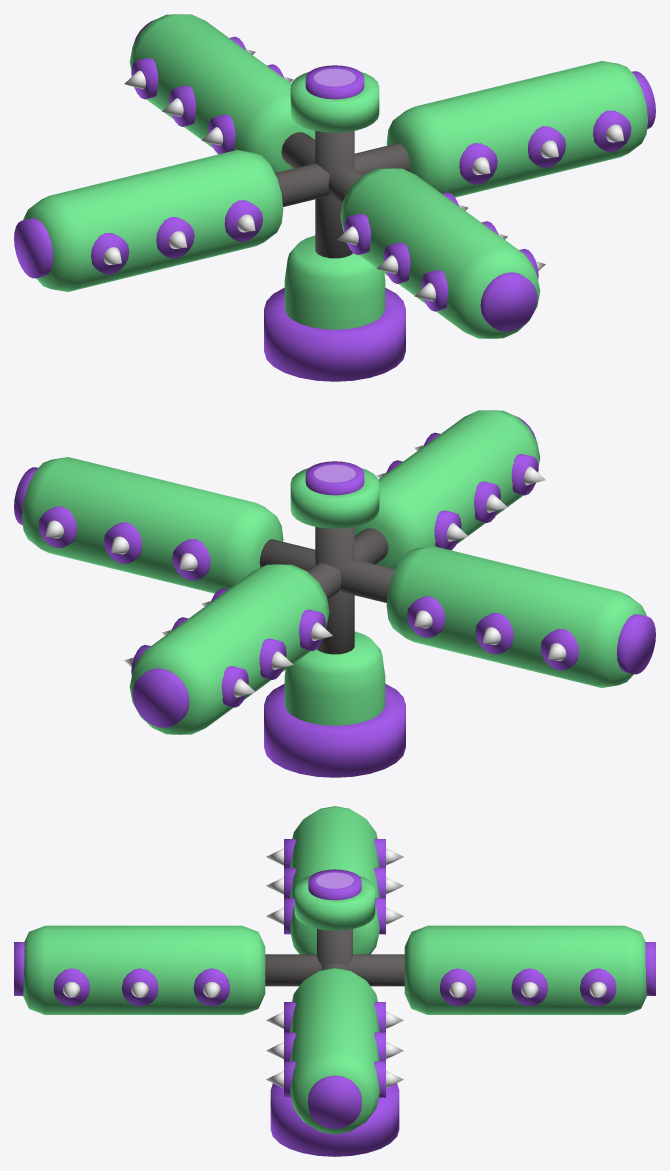
The model's file is Obstacle 11 V4.fbx.
The picture shows the model from 3 angles, top to bottom: view 1: azimuth 30°, elevation 25°; view 2: azimuth 150°, elevation 25°; view 3: azimuth 270°, elevation 25°; orthographic projection. The views are drawn at different scales.
Visible parts, largest first — view 1: O11 Part 1, O11 Part 2; view 2: O11 Part 1, O11 Part 2; view 3: O11 Part 1, O11 Part 2.
Part boxes in pixels (x1=…): O11 Part 1: x1=14, y1=14, x2=655, y2=338; O11 Part 2: x1=264, y1=65, x2=405, y2=381; O11 Part 1: x1=14, y1=410, x2=655, y2=734; O11 Part 2: x1=264, y1=461, x2=405, y2=777; O11 Part 1: x1=14, y1=806, x2=655, y2=1134; O11 Part 2: x1=270, y1=869, x2=399, y2=1156.
Bounding box in the file's own units: 225 × 96.18 × 225.
1 material, 1 textured.
